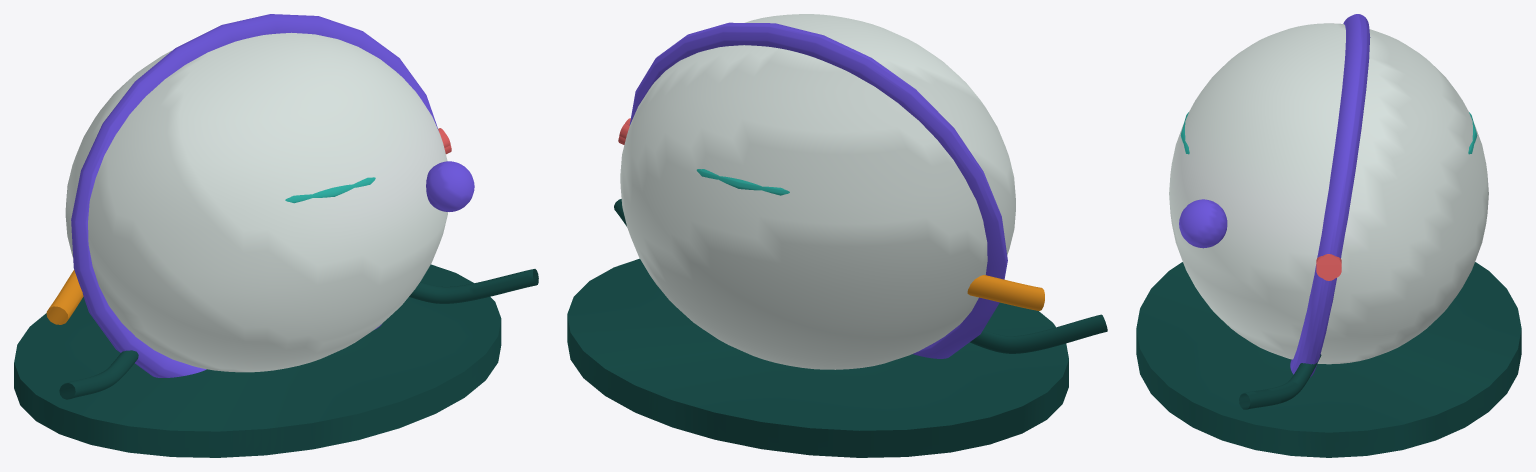
Rendered from 1210_细胞图鉴_细胞核.glb.
3 renders of one model, left to right at view 1: azimuth 30°, elevation 25°; view 2: azimuth 150°, elevation 25°; view 3: azimuth 270°, elevation 25°, orthographic. The views are drawn at different scales.
Parts seen in each view (by area): view 1: card_1210; view 2: card_1210; view 3: card_1210.
Part boxes in pixels (x1=…): card_1210: x1=14, y1=14, x2=538, y2=457; card_1210: x1=567, y1=14, x2=1107, y2=457; card_1210: x1=1136, y1=14, x2=1521, y2=457.
Bounding box in the file's own units: 1.46 × 1 × 1.06.
